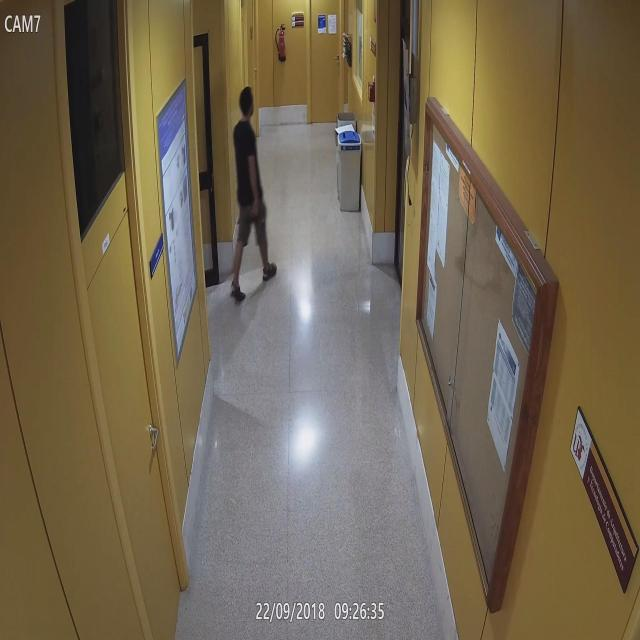pistol: (249, 204, 263, 244)
